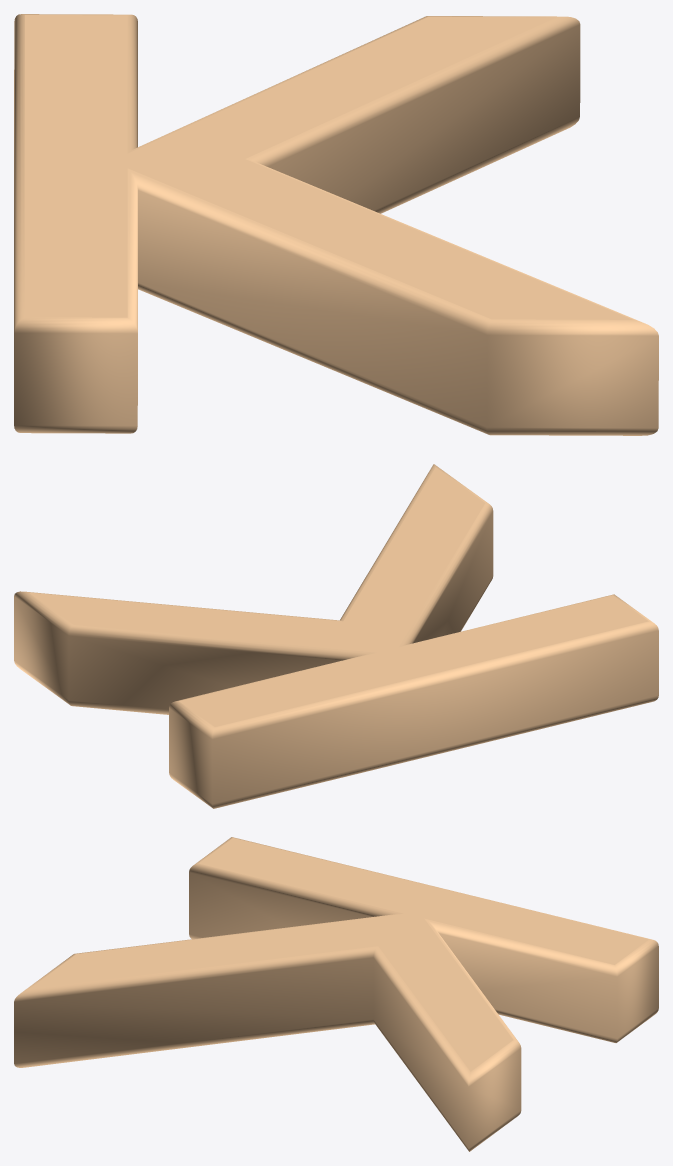
The model's file is Toy52.fbx.
3 renders of one model, top to bottom at view 1: azimuth 30°, elevation 25°; view 2: azimuth 150°, elevation 25°; view 3: azimuth 270°, elevation 25°, orthographic. The views are drawn at different scales.
Parts seen in each view (by area): view 1: Toy52; view 2: Toy52; view 3: Toy52.
Boxes of the visible parts, x1=… form: Toy52: x1=14, y1=14, x2=658, y2=435; Toy52: x1=14, y1=464, x2=658, y2=808; Toy52: x1=14, y1=837, x2=658, y2=1151.
Bounding box in the file's own units: 0.1779 × 0.0269 × 0.1989.
